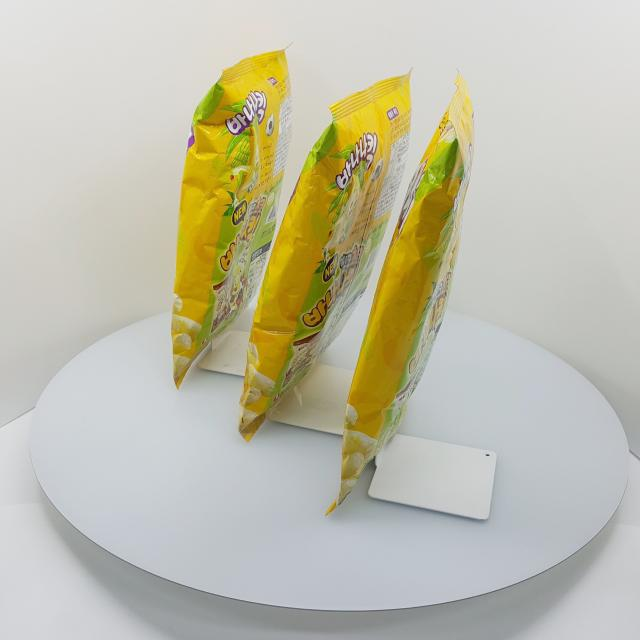-75G: (326, 68, 476, 517), (239, 68, 413, 444), (172, 43, 294, 392)
